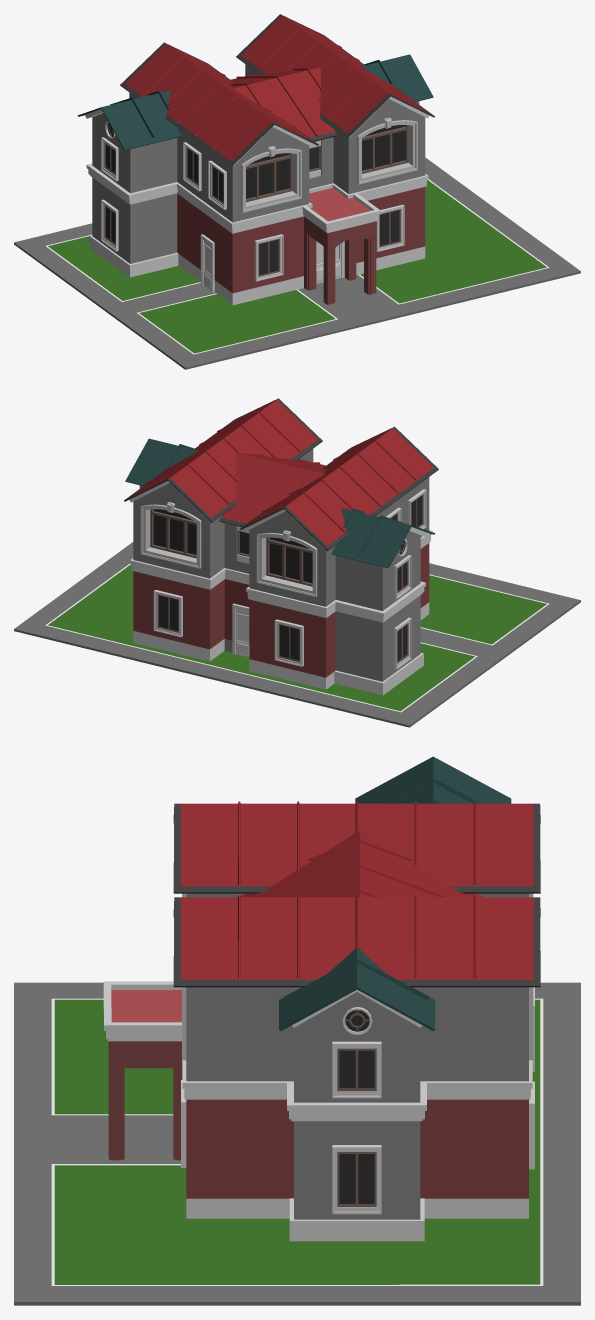
File: house-08.glb
3 views of the same model, one above another, from view 1: azimuth 30°, elevation 25°; view 2: azimuth 150°, elevation 25°; view 3: azimuth 270°, elevation 25° (orthographic). The views are drawn at different scales.
Parts seen in each view (by area): view 1: house_08; view 2: house_08; view 3: house_08.
Boxes of the visible parts, box(x1,y1,x2,y2) form: house_08: box(14, 14, 580, 369); house_08: box(14, 398, 580, 727); house_08: box(14, 756, 580, 1305).
Size of the model in its own units: 20 by 8.64 by 15.
Materials: 1 (1 with a texture image).
